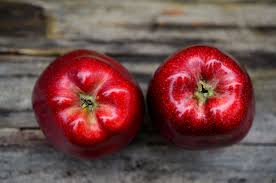apple: (32, 51, 145, 159), (152, 44, 256, 151)
